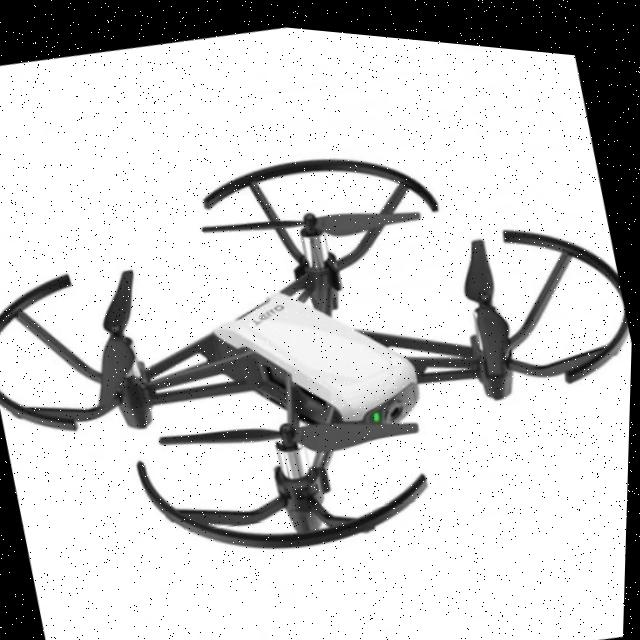drones: (0, 57, 639, 640)
